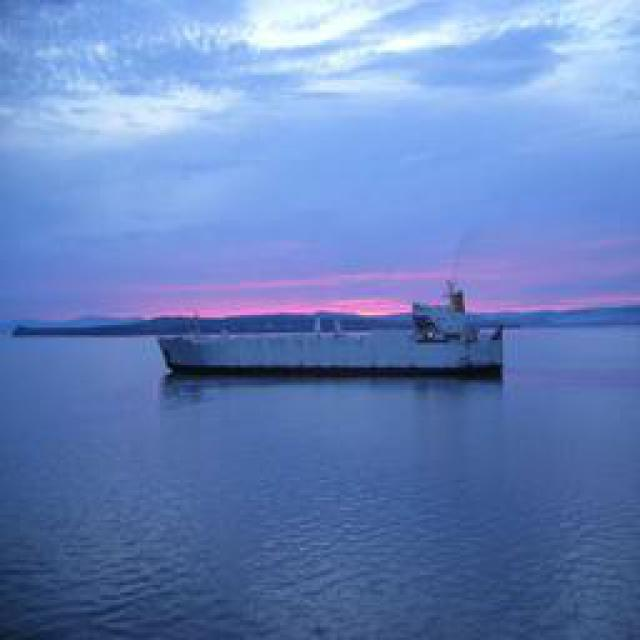Ship: (153, 316, 501, 376)
